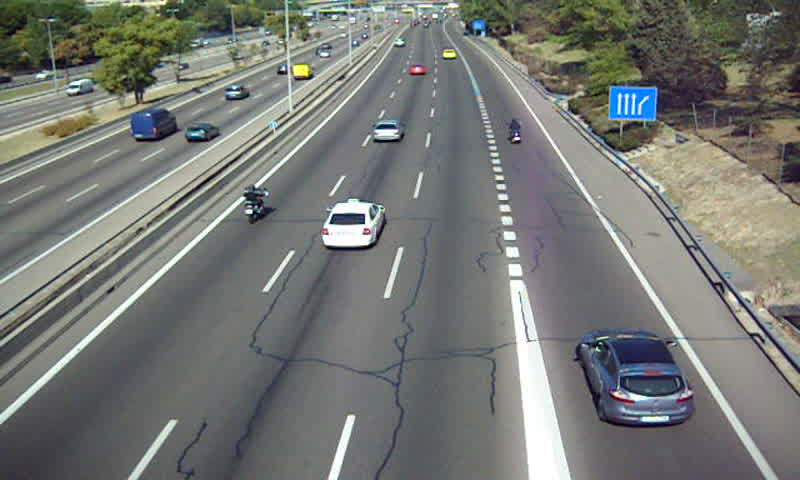car: (580, 334, 694, 425), (322, 201, 386, 249), (371, 118, 404, 142), (409, 62, 427, 77), (442, 48, 458, 59)
motorcycle: (239, 185, 267, 225), (507, 117, 524, 145)
